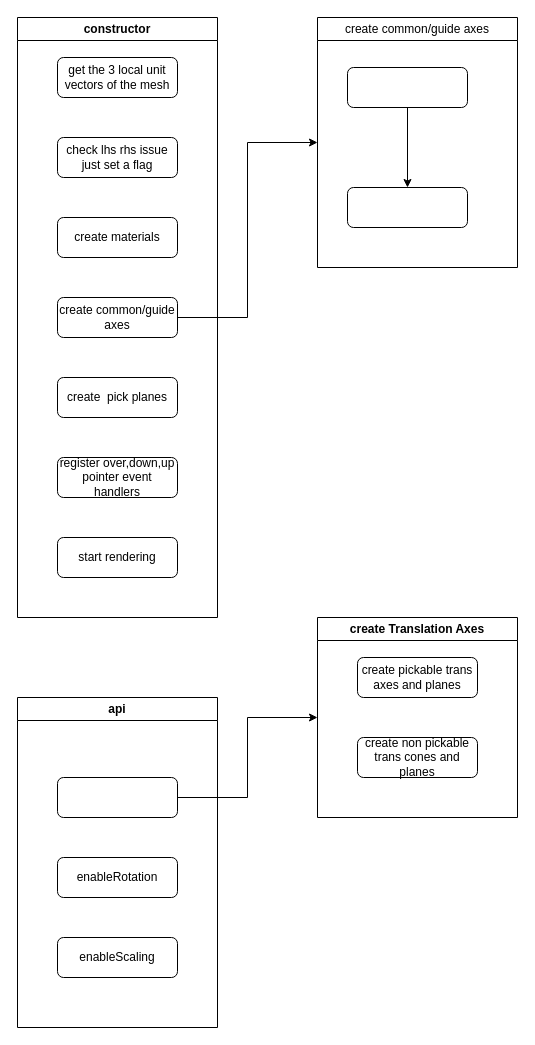
This 535x1045 diagram has some shape labels left out. Here are the shapes that lost their labels. From the top down, the centre of each, then its label:
(407,87): create big axes
(407,207): create small axis
(117,797): enableTransalation
